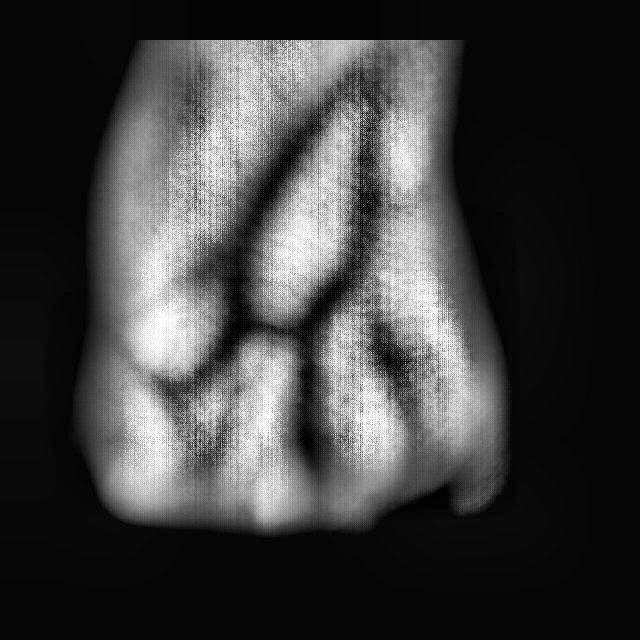Vein: (220, 54, 370, 251)
